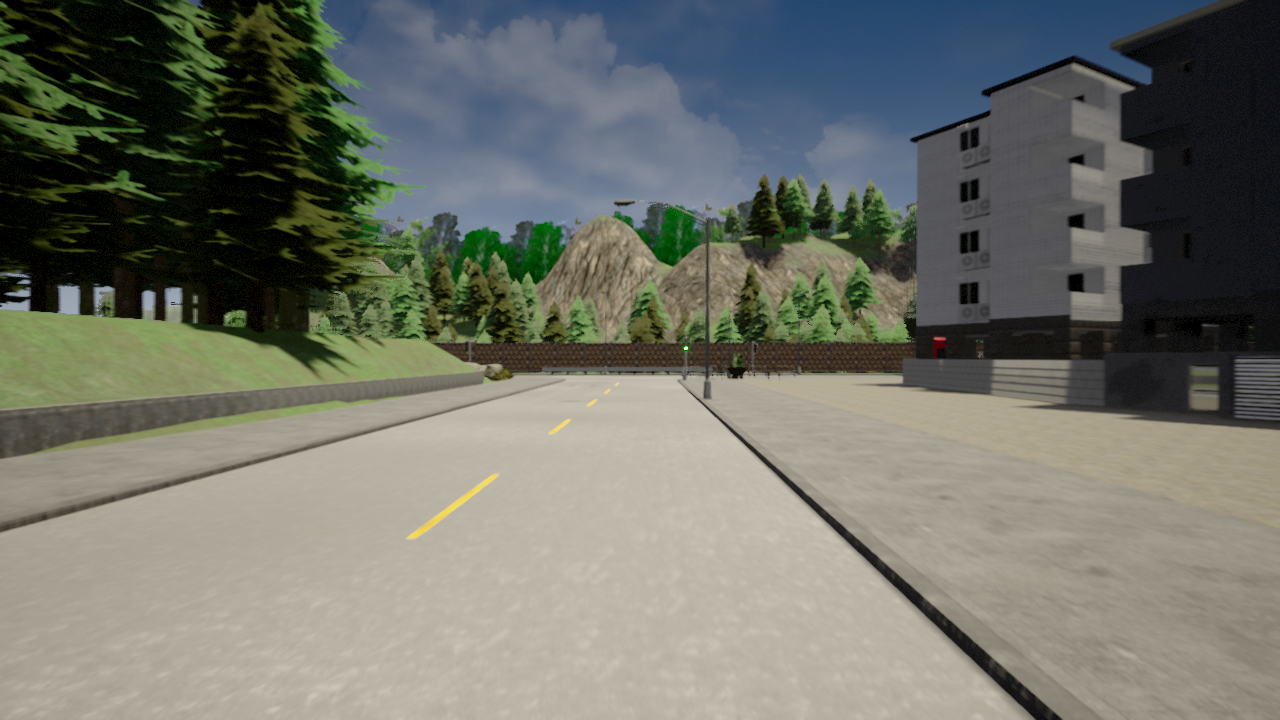green: (683, 338, 689, 352)
